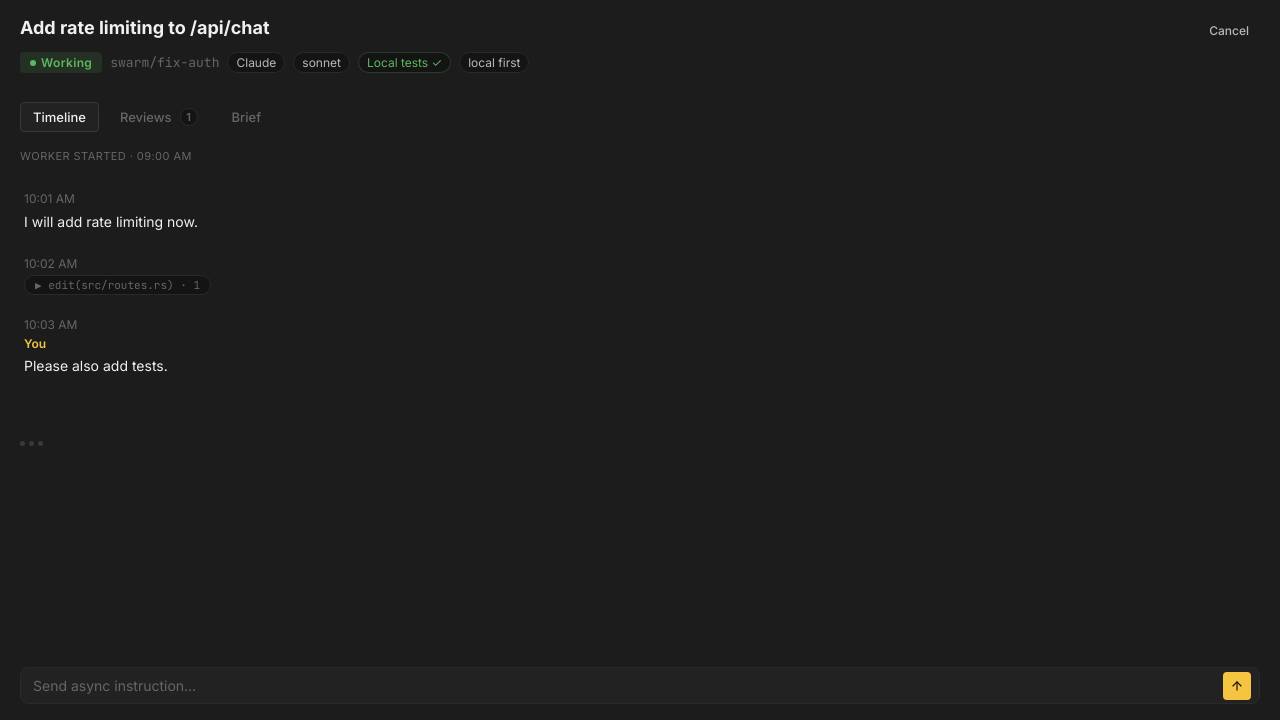
it: WorkerDetailV2 › renders reviews section when reviews exist (via Reviews tab)
Expected: the element with test id "status-badge" is shown, [20, 52, 102, 73]
Click the tab "Reviews 1": (159, 117) [107, 101, 211, 133]
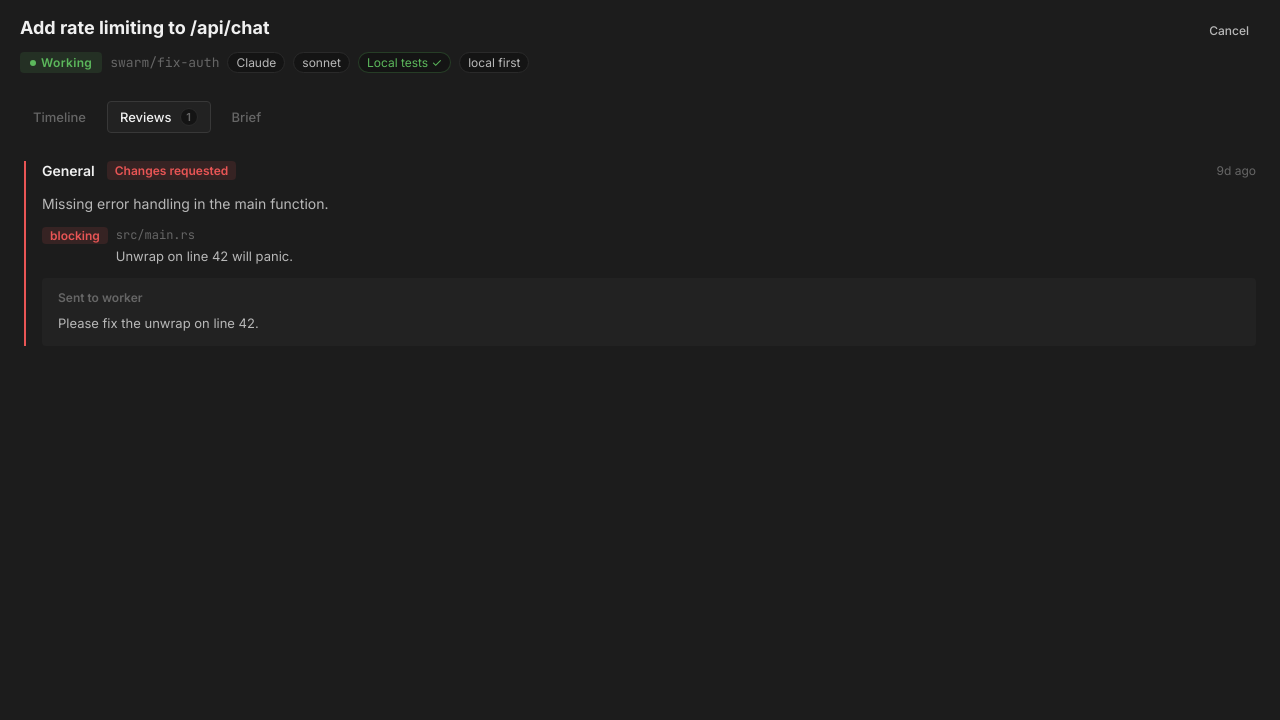
Expected: the element with test id "reviews-section" is shown, [24, 161, 1256, 346]
Expected: the element with test id "reviews-section" shows "General", [42, 162, 95, 179]
Expected: the element with test id "reviews-section" shows "Changes requested", [115, 163, 228, 178]
